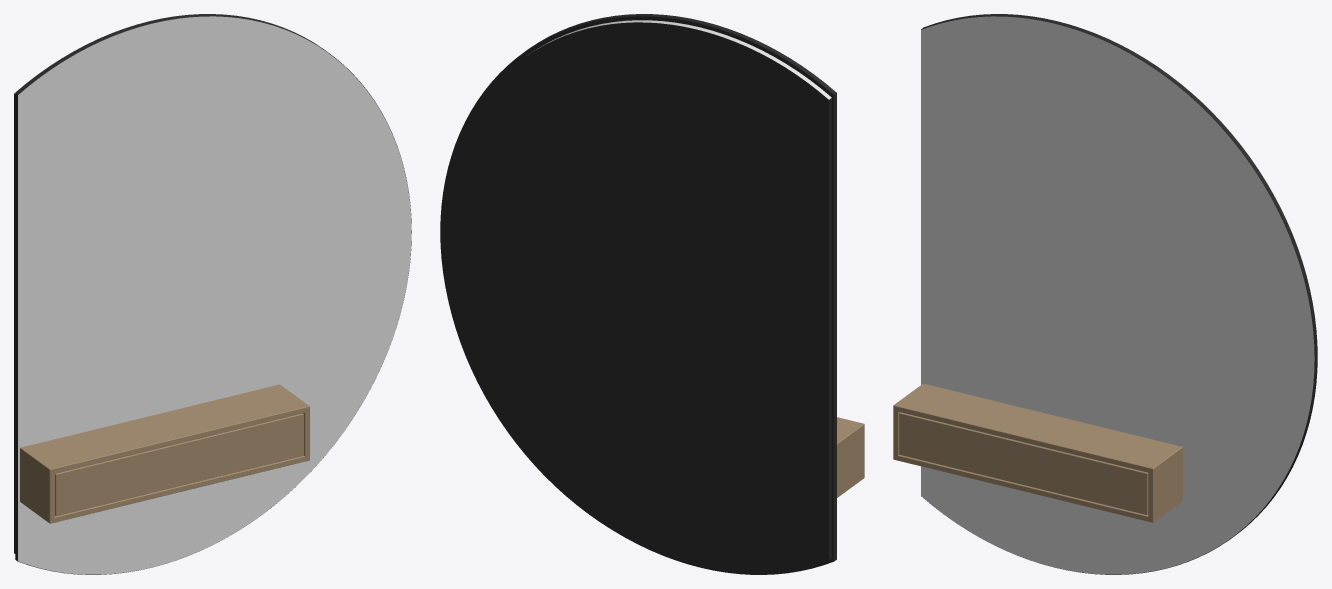
Rendered from Mirror_1.fbx.
The picture shows the model from 3 angles, left to right: view 1: azimuth 30°, elevation 25°; view 2: azimuth 150°, elevation 25°; view 3: azimuth 330°, elevation 25°; orthographic projection.
Visible parts, largest first — view 1: Mirror_1; view 2: Mirror_1; view 3: Mirror_1.
Part boxes in pixels (x1,y1,x2,y2): Mirror_1: [14, 14, 411, 574]; Mirror_1: [440, 14, 864, 574]; Mirror_1: [893, 14, 1317, 574].
Bounding box in the file's own units: 151 × 200 × 23.89.
